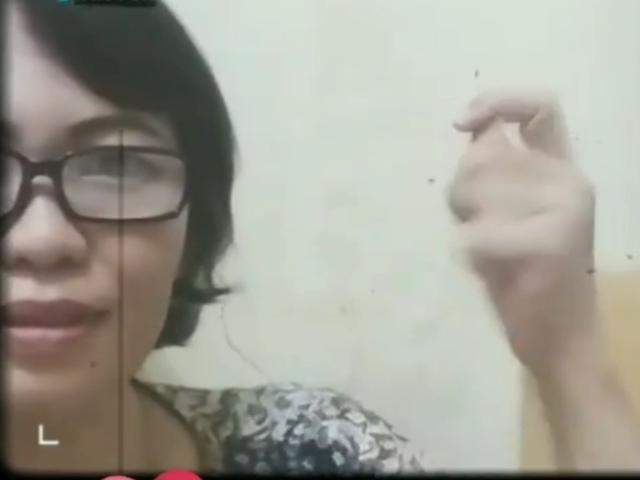T: (437, 85, 607, 369)
